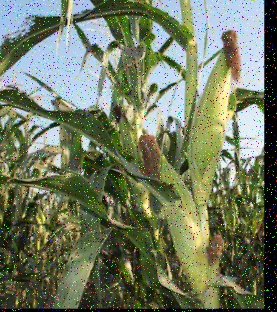corn_plant: (138, 135, 211, 295), (196, 28, 242, 205)
